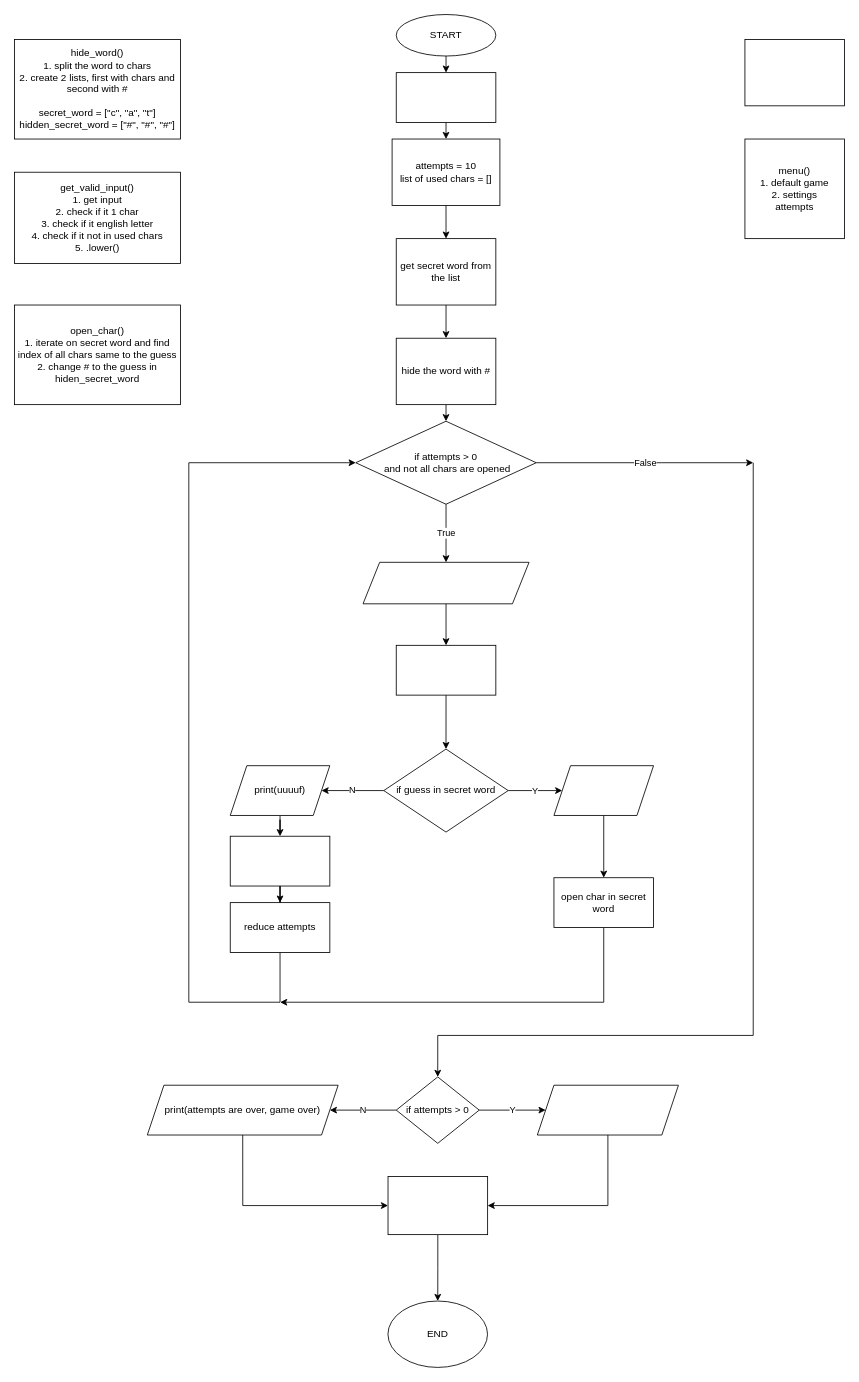
The diagram is 859 pixels wide and 1382 high, and some of its shapes have lost their labels. The shapes that lost their labels are listed below. From the top down, each one's centre as x and y in pixels, then its label:
At [794,72]: "every open letter in the word +100 score -= (10 - attemps) * 20".
At [445,97]: "menu()".
At [445,582]: "show to user hidden word and left attempts".
At [445,669]: "get from the user valid input".
At [603,790]: "print(u are good)".
At [279,860]: "add to list of used chars guess of the user".
At [607,1109]: "print(you are winner)".
At [437,1205]: "counting_score()".
